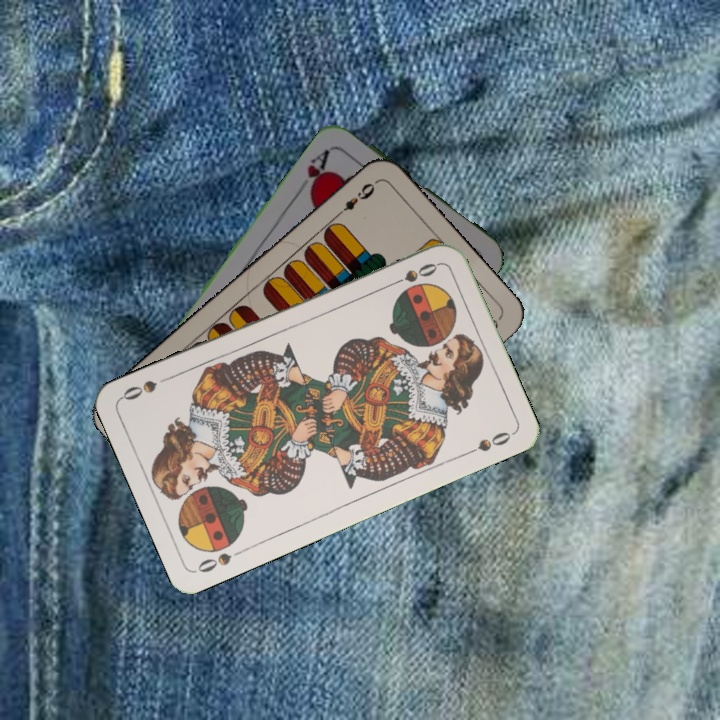E9: (331, 177, 380, 220)
HA: (302, 145, 332, 197)
SO: (193, 544, 248, 575), (385, 259, 441, 289)
